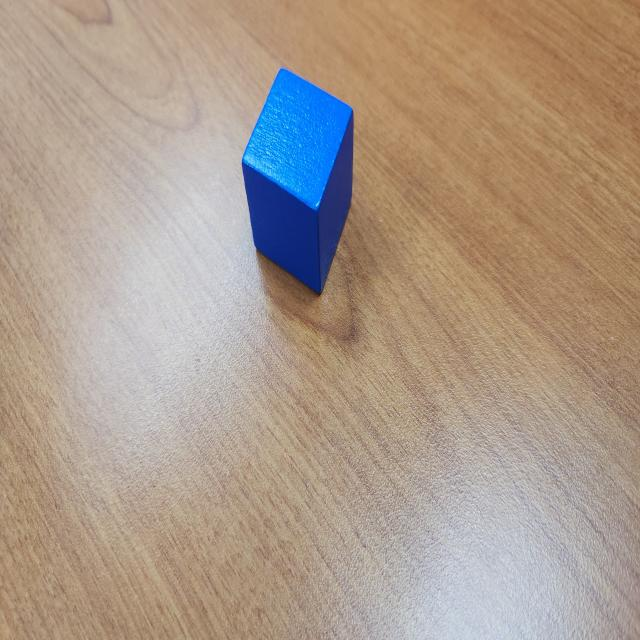blue: (241, 68, 354, 295)
